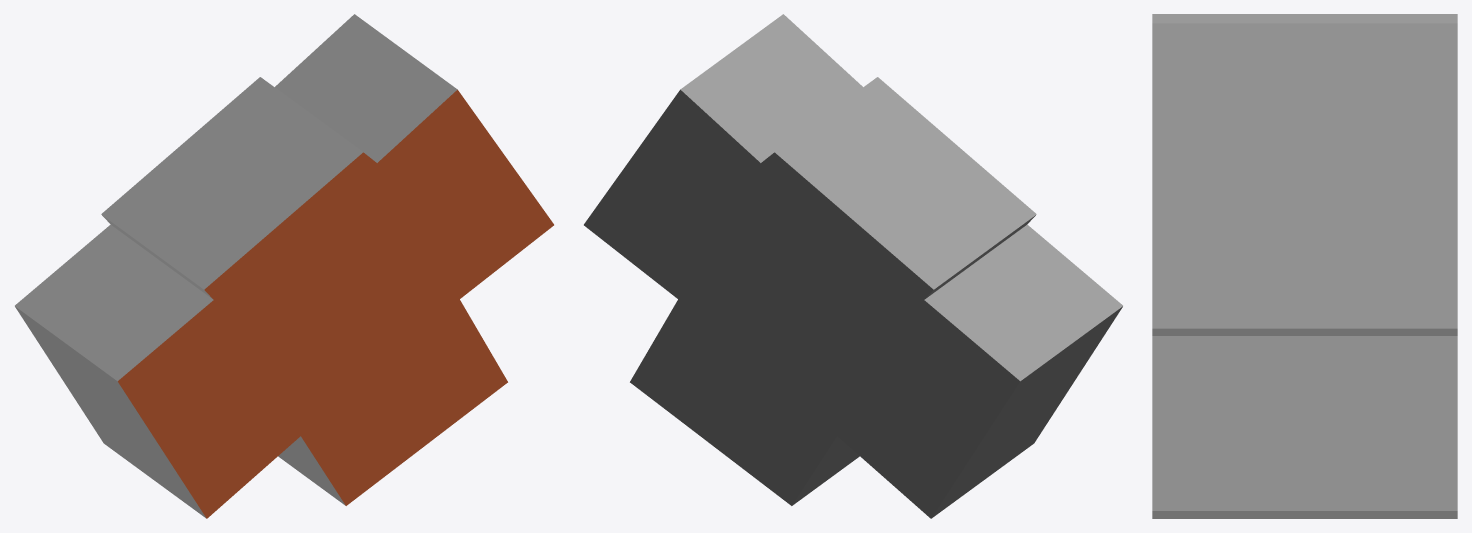
File: construction_5877_assumed_A_Casa_h6m.obj
3 renders of one model, left to right at view 1: azimuth 30°, elevation 25°; view 2: azimuth 150°, elevation 25°; view 3: azimuth 270°, elevation 25°, orthographic. The views are drawn at different scales.
Visible parts, largest first — view 1: construction_5877_assumed_A_Casa; view 2: construction_5877_assumed_A_Casa; view 3: construction_5877_assumed_A_Casa.
Boxes of the visible parts, box(x1,y1,x2,y2) form: construction_5877_assumed_A_Casa: box(15, 14, 553, 518); construction_5877_assumed_A_Casa: box(584, 14, 1122, 518); construction_5877_assumed_A_Casa: box(1152, 14, 1457, 518).
Bounding box in the file's own units: 14.68 × 12.5 × 6.
